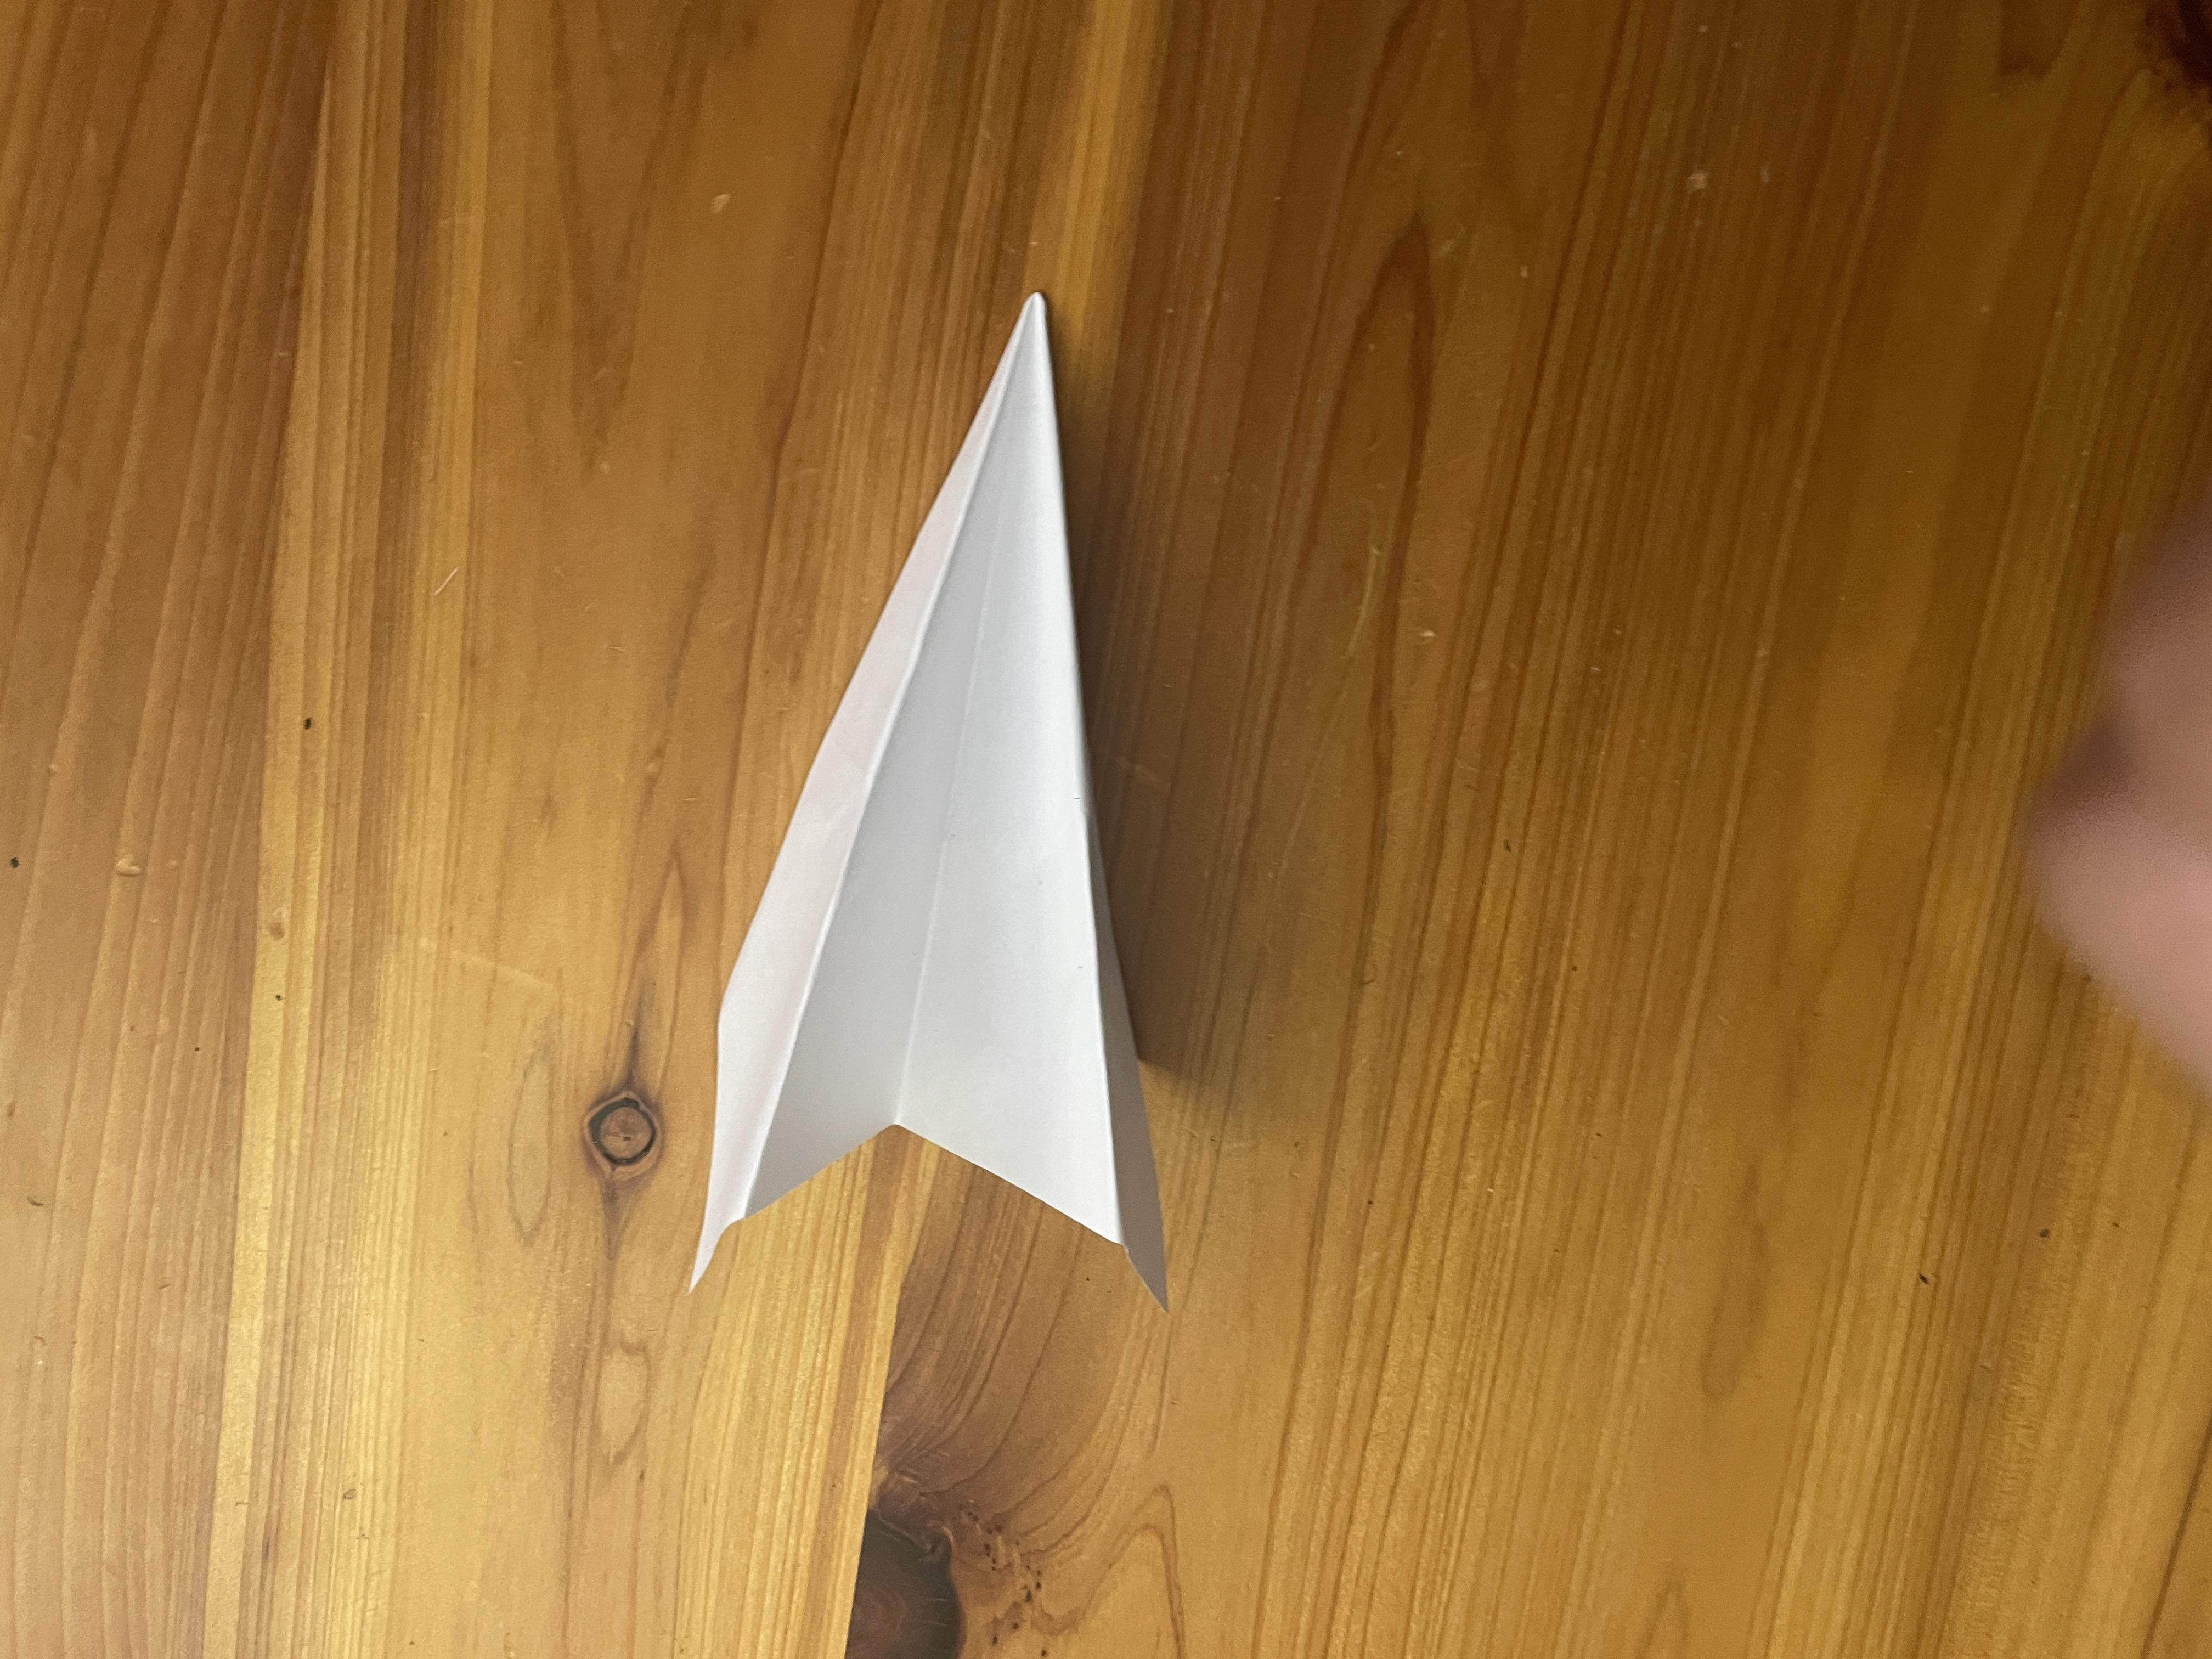shape_3: (596, 132, 1334, 1389)
